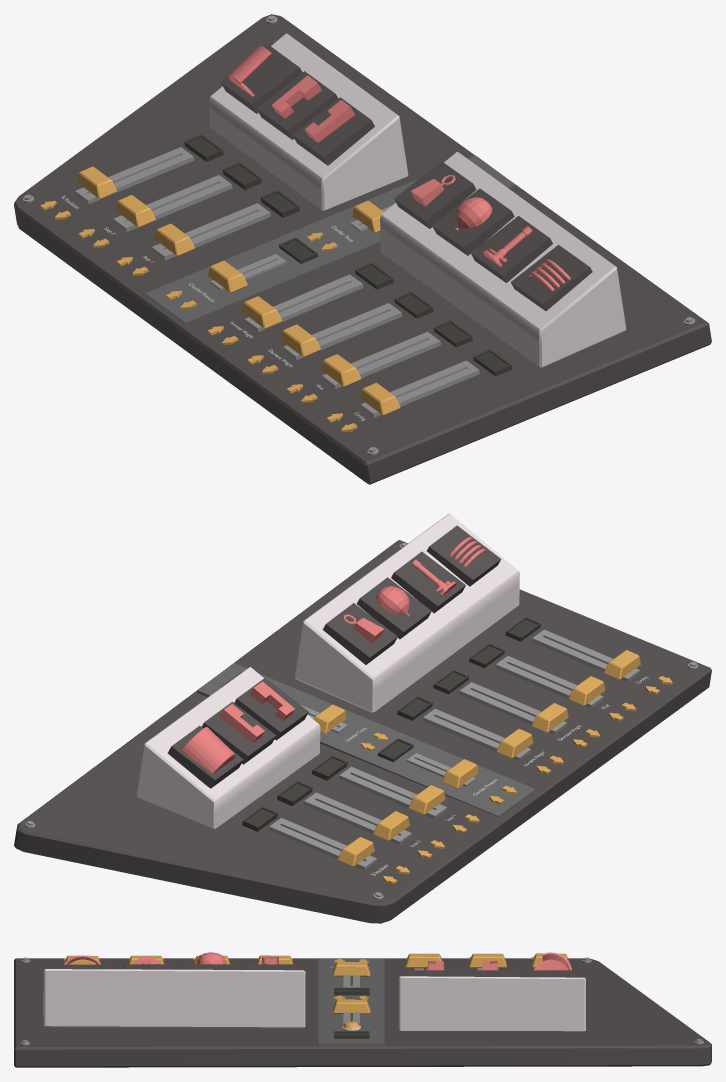
File: MainControlBoard.fbx
The picture shows the model from 3 angles, top to bottom: view 1: azimuth 30°, elevation 25°; view 2: azimuth 150°, elevation 25°; view 3: azimuth 270°, elevation 25°; orthographic projection. The views are drawn at different scales.
Parts seen in each view (by area): view 1: Cube.048, Cylinder.146, Cube.192, Plane.097, Stop1_Button, P.Insulation_Button, D.Weight_Button, In.Weight_Button, Heat_Button, Cooling_Button, Stop2_Button, Cube.203 (+14 smaller); view 2: Cube.048, Cylinder.146, Cube.192, Plane.097, P.Insulation_Button, In.Weight_Button, D.Weight_Button, Heat_Button, Cooling_Button, Stop1_Button, Stop2_Button, Cube.187 (+14 smaller); view 3: Cube.048, Cylinder.146, Cube.192, Plane.097, P.Insulation_Button, D.Weight_Button, Cube.210, Cube.215, Stop1_Button, Stop2_Button, Cooling_Button, Heat_Button (+4 smaller).
Boxes of the visible parts, bbox=[...] form: Cube.048: bbox=[14, 14, 711, 484]; Cylinder.146: bbox=[380, 152, 626, 368]; Cube.192: bbox=[209, 33, 408, 210]; Plane.097: bbox=[145, 155, 516, 323]; Stop1_Button: bbox=[292, 97, 374, 165]; P.Insulation_Button: bbox=[221, 45, 302, 113]; D.Weight_Button: bbox=[432, 188, 514, 255]; In.Weight_Button: bbox=[394, 161, 476, 228]; Heat_Button: bbox=[470, 216, 552, 282]; Cooling_Button: bbox=[511, 245, 592, 311]; Stop2_Button: bbox=[256, 71, 338, 139]; Cube.203: bbox=[244, 274, 363, 332]; Cube.048: bbox=[14, 540, 711, 923]; Cylinder.146: bbox=[295, 513, 519, 712]; Cube.192: bbox=[136, 667, 320, 828]; Plane.097: bbox=[196, 663, 535, 816]; P.Insulation_Button: bbox=[167, 725, 243, 788]; In.Weight_Button: bbox=[322, 603, 397, 664]; D.Weight_Button: bbox=[357, 577, 431, 639]; Heat_Button: bbox=[391, 551, 465, 613]; Cooling_Button: bbox=[427, 525, 501, 586]; Stop1_Button: bbox=[234, 678, 308, 740]; Stop2_Button: bbox=[201, 702, 276, 764]; Cube.187: bbox=[339, 766, 446, 819]; Cube.048: bbox=[14, 957, 711, 1067]; Cylinder.146: bbox=[43, 969, 305, 1028]; Cube.192: bbox=[398, 976, 585, 1031]; Plane.097: bbox=[318, 959, 384, 1045]; P.Insulation_Button: bbox=[525, 952, 575, 977]; D.Weight_Button: bbox=[185, 952, 236, 969]; Cube.210: bbox=[332, 962, 370, 976]; Cube.215: bbox=[333, 999, 370, 1013]; Stop1_Button: bbox=[408, 961, 459, 976]; Stop2_Button: bbox=[467, 961, 517, 976]; Cooling_Button: bbox=[59, 955, 110, 969]; Heat_Button: bbox=[123, 956, 174, 969].
Size of the model in its own units: 0.4551 by 0.1777 by 0.9718.
